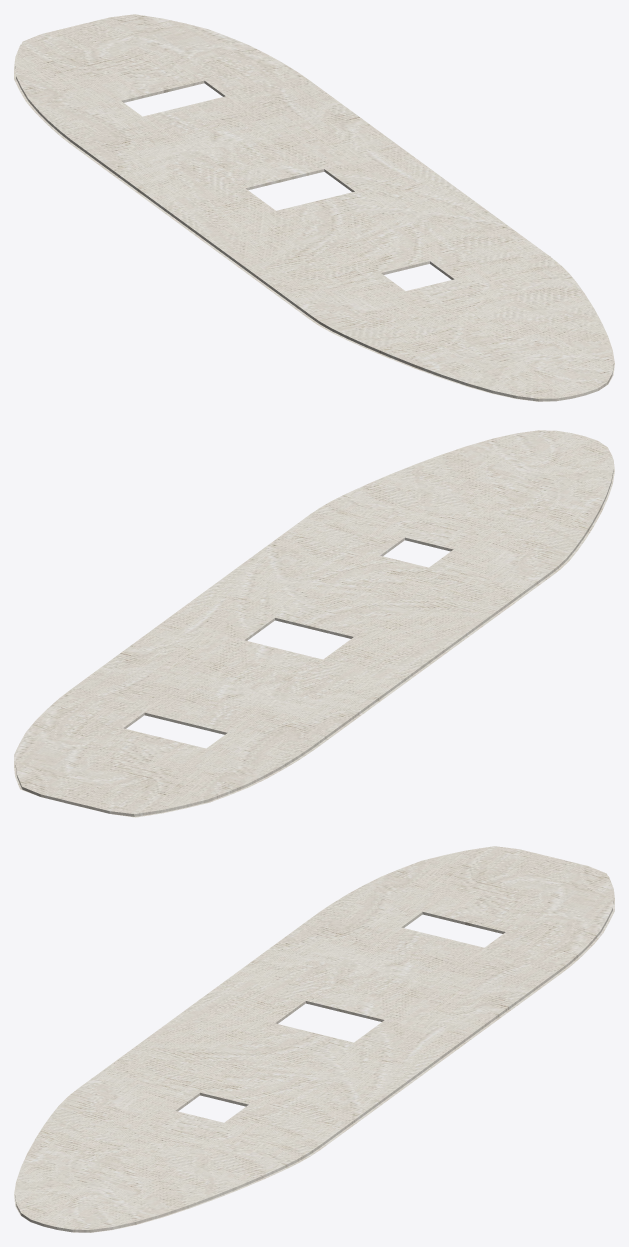
File: Ceilings.fbx
3 renders of one model, top to bottom at view 1: azimuth 30°, elevation 25°; view 2: azimuth 150°, elevation 25°; view 3: azimuth 330°, elevation 25°, orthographic.
Parts seen in each view (by area): view 1: Ceiling; view 2: Ceiling; view 3: Ceiling.
Boxes of the visible parts, x1=… form: Ceiling: x1=14, y1=14, x2=614, y2=401; Ceiling: x1=14, y1=430, x2=614, y2=817; Ceiling: x1=14, y1=846, x2=614, y2=1232.
Bounding box in the file's own units: 25.97 × 0.2758 × 92.55.
Materials: 1 (1 with a texture image).
